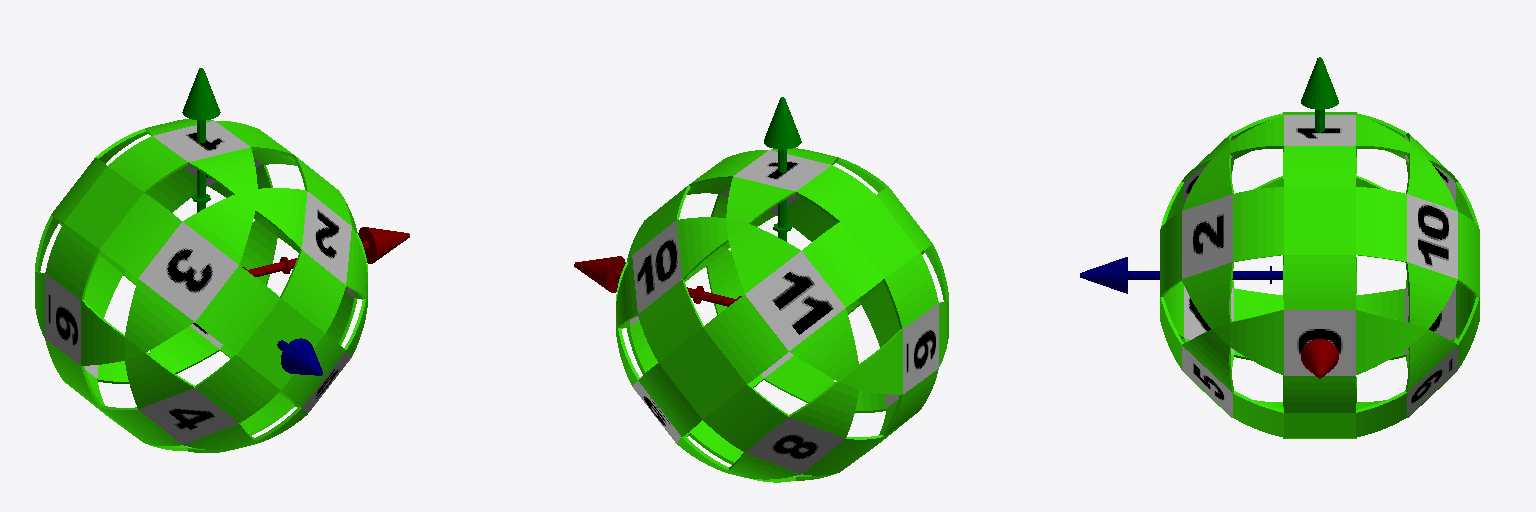
3 views of the same model, side by side, from view 1: azimuth 30°, elevation 25°; view 2: azimuth 150°, elevation 25°; view 3: azimuth 270°, elevation 25° (orthographic).
Visible parts, largest first — view 1: catom_creux_1, repere; view 2: catom_creux_1, repere; view 3: catom_creux_1, repere.
Part boxes in pixels (bbox=[...]): catom_creux_1: bbox=[35, 119, 367, 452]; repere: bbox=[182, 68, 409, 375]; catom_creux_1: bbox=[616, 148, 948, 482]; repere: bbox=[574, 97, 801, 306]; catom_creux_1: bbox=[1160, 112, 1479, 438]; repere: bbox=[1080, 57, 1338, 378].
Bounding box in the file's own units: 12.5 × 12.5 × 12.5.
Materials: 6 (1 with a texture image).